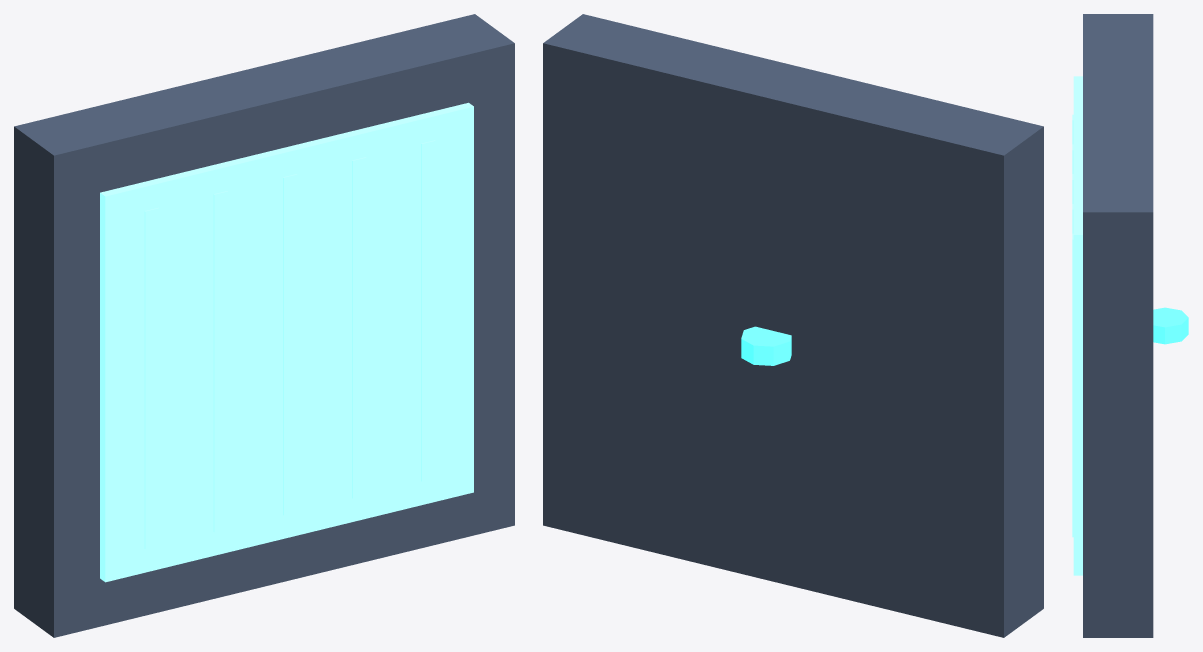
The model's file is mod_panel_deco.fbx.
3 renders of one model, left to right at view 1: azimuth 30°, elevation 25°; view 2: azimuth 150°, elevation 25°; view 3: azimuth 270°, elevation 25°, orthographic. The views are drawn at different scales.
Visible parts, largest first — view 1: Panel_deco_Neon, Panel_deco; view 2: Panel_deco, Panel_deco_Conectores; view 3: Panel_deco, Panel_deco_Neon, Panel_deco_Conectores.
Part boxes in pixels (box(x1,y1,x2,y2)): Panel_deco_Neon: box(100, 102, 473, 582); Panel_deco: box(14, 14, 514, 637); Panel_deco: box(543, 14, 1043, 637); Panel_deco_Conectores: box(741, 326, 791, 365); Panel_deco: box(1083, 14, 1153, 637); Panel_deco_Neon: box(1072, 76, 1082, 575); Panel_deco_Conectores: box(1153, 307, 1188, 344).
Bounding box in the file's own units: 0.56 × 0.56 × 0.1386.
